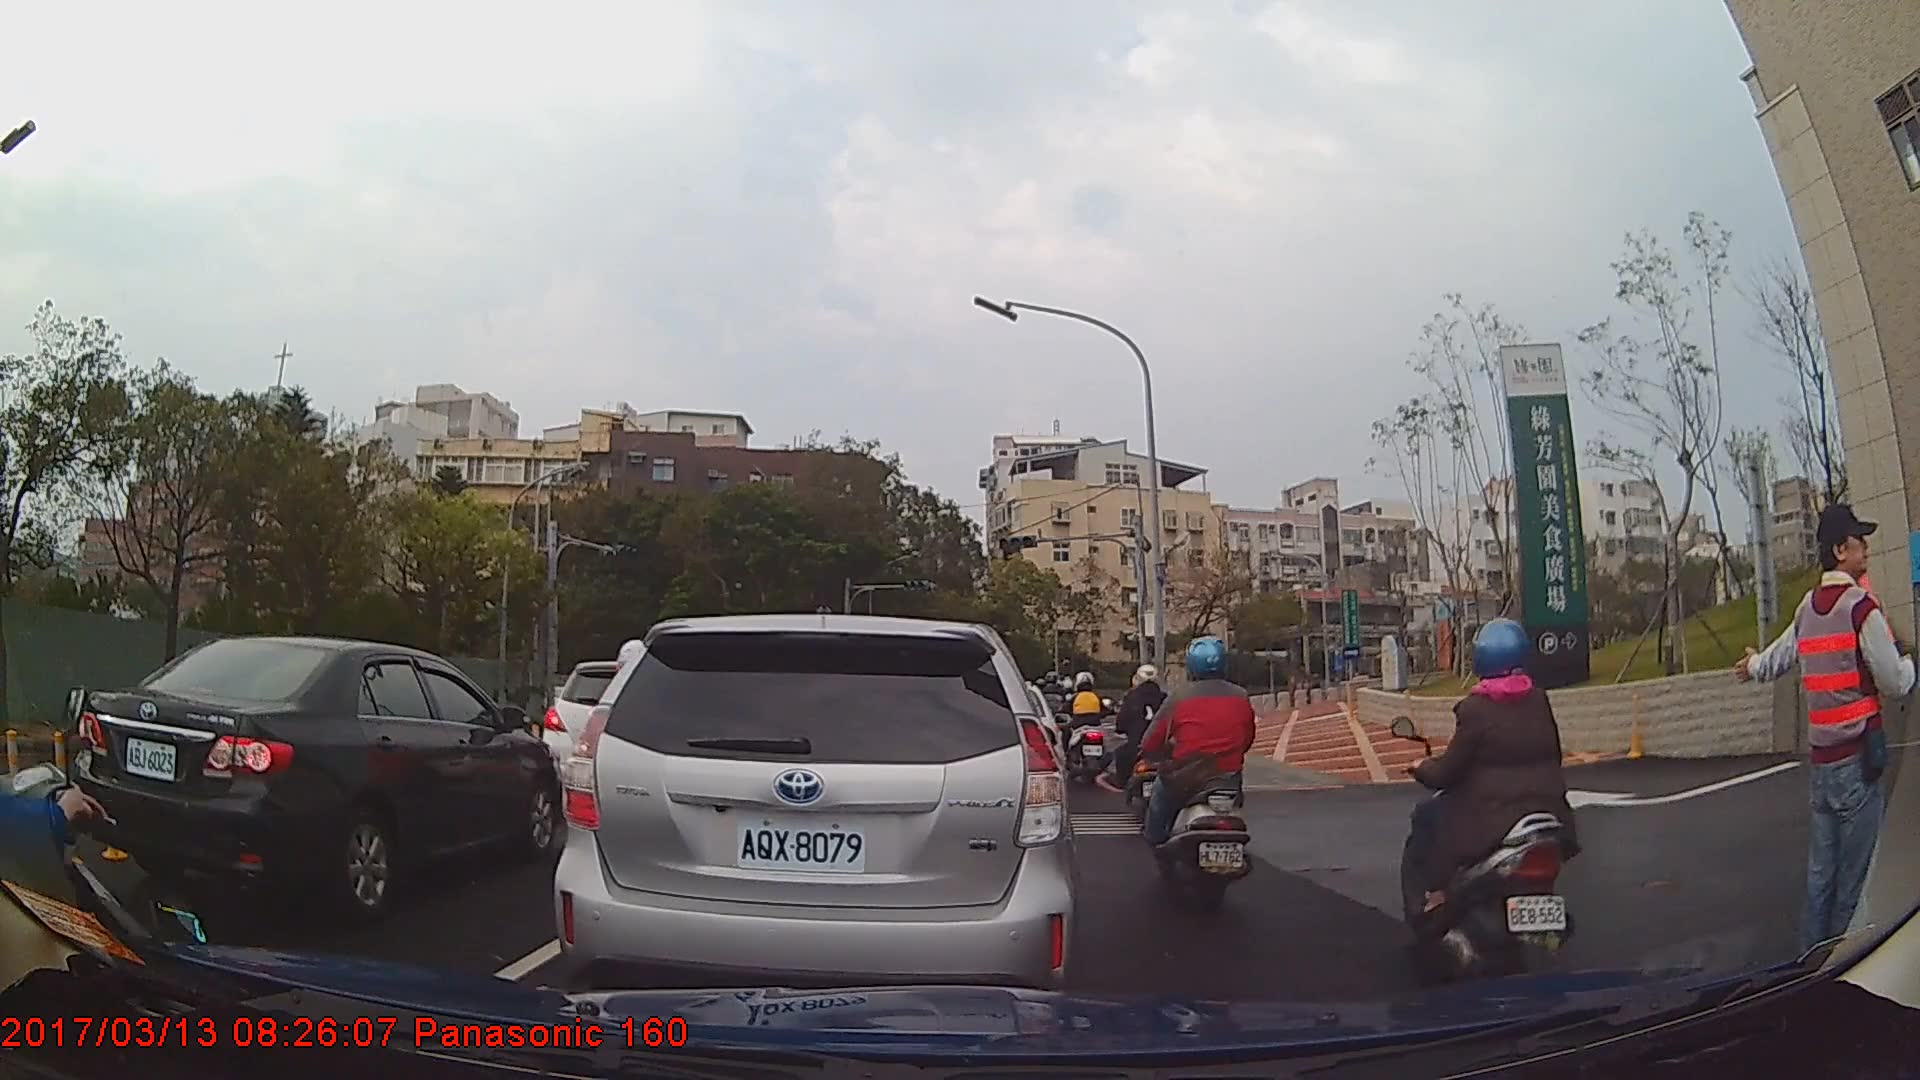pedestrian: (1737, 499, 1918, 979)
rider: (1391, 618, 1574, 1003), (1141, 637, 1253, 915), (1117, 659, 1176, 820), (1067, 668, 1115, 788)
vehicle: (556, 611, 1077, 1005), (68, 635, 560, 916)
